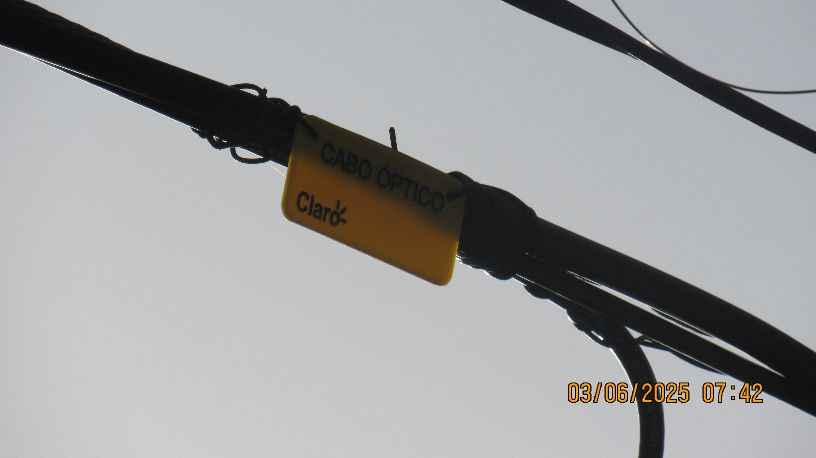fibra_optica: (115, 57, 647, 356)
